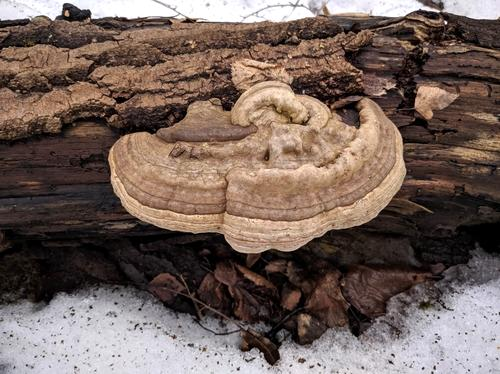Ganoderma - Fruit Body: (108, 85, 408, 253)
